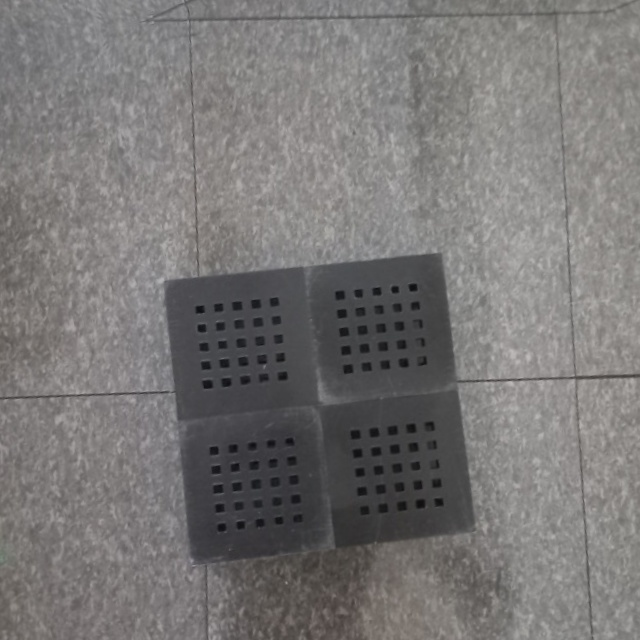pallet: (155, 244, 483, 566)
